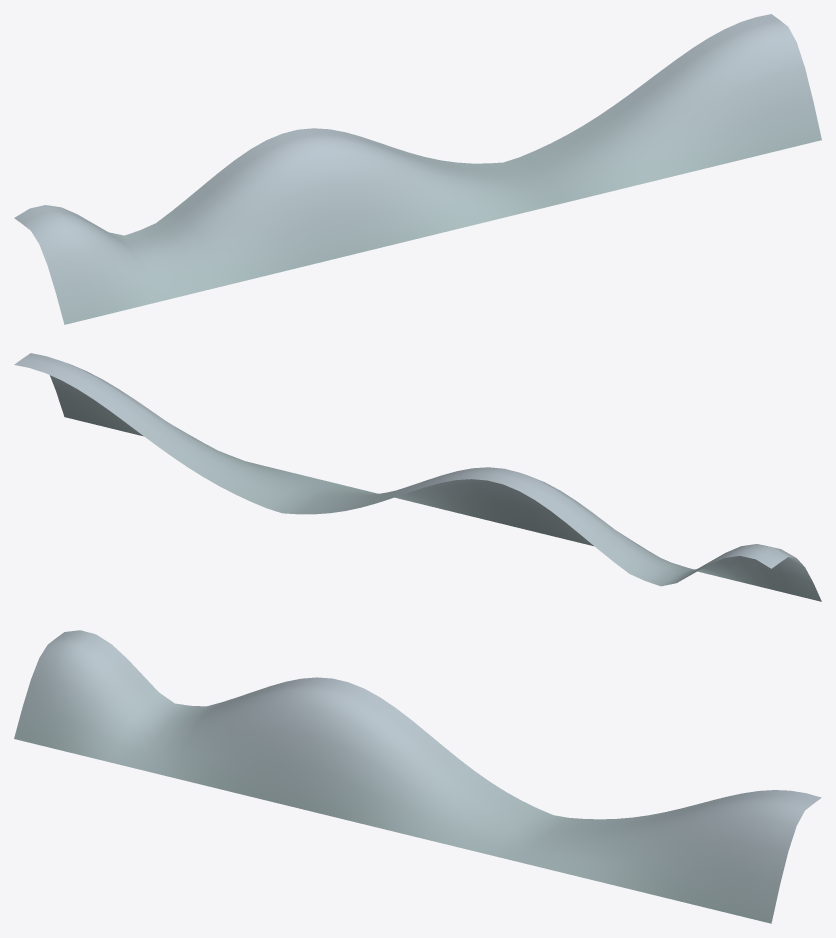
The model's file is hills_far.glb.
3 renders of one model, top to bottom at view 1: azimuth 30°, elevation 25°; view 2: azimuth 150°, elevation 25°; view 3: azimuth 330°, elevation 25°, orthographic.
Visible parts, largest first — view 1: Hills_Far_Mass; view 2: Hills_Far_Mass; view 3: Hills_Far_Mass.
Part boxes in pixels (x1,y1,x2,y2): Hills_Far_Mass: [14, 14, 821, 324]; Hills_Far_Mass: [14, 353, 821, 601]; Hills_Far_Mass: [14, 630, 821, 923].
Size of the model in its own units: 260 by 29.45 by 30.
